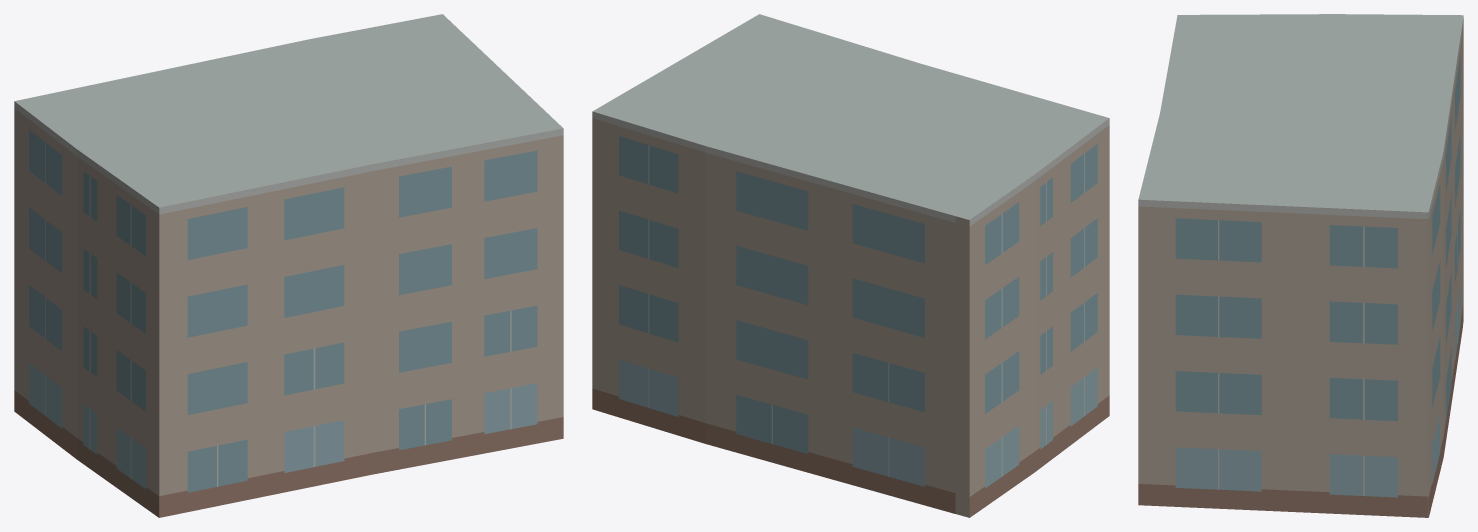
File: survey-upis-32662993.glb
3 views of the same model, side by side, from view 1: azimuth 30°, elevation 25°; view 2: azimuth 150°, elevation 25°; view 3: azimuth 270°, elevation 25° (orthographic). The views are drawn at different scales.
Parts seen in each view (by area): view 1: survey-upis-32662993.tmp; view 2: survey-upis-32662993.tmp; view 3: survey-upis-32662993.tmp.
Part boxes in pixels (x1,y1,x2,y2): survey-upis-32662993.tmp: (14,14,563,517); survey-upis-32662993.tmp: (592,14,1109,517); survey-upis-32662993.tmp: (1138,14,1463,517).
Size of the model in its own units: 15.33 by 11 by 10.62.
